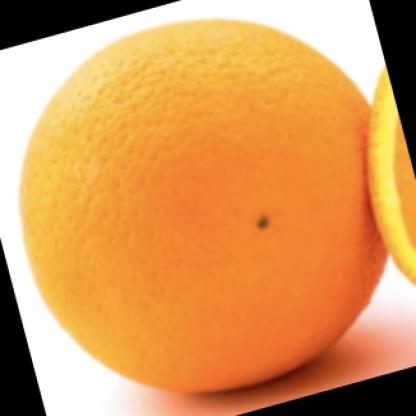fresh: (19, 18, 381, 395)
